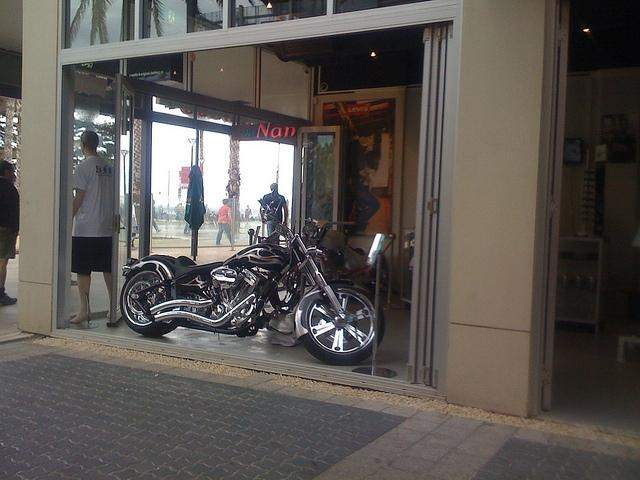motorcycle: (117, 233, 380, 365)
